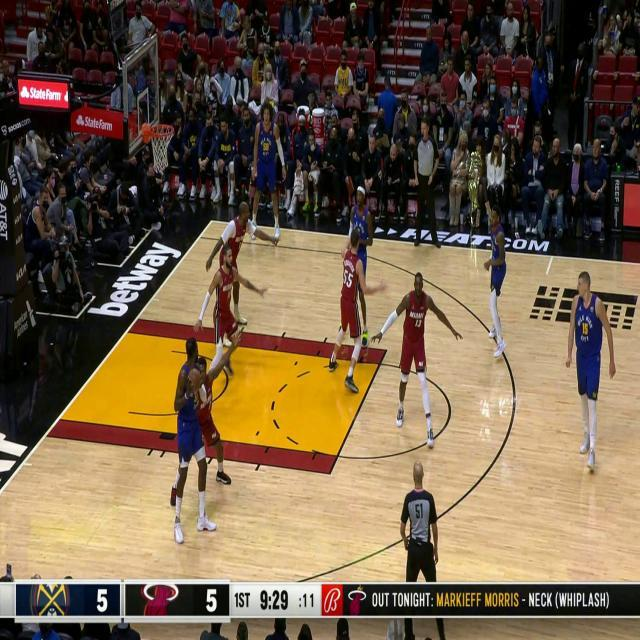rim: (187, 368, 202, 391)
